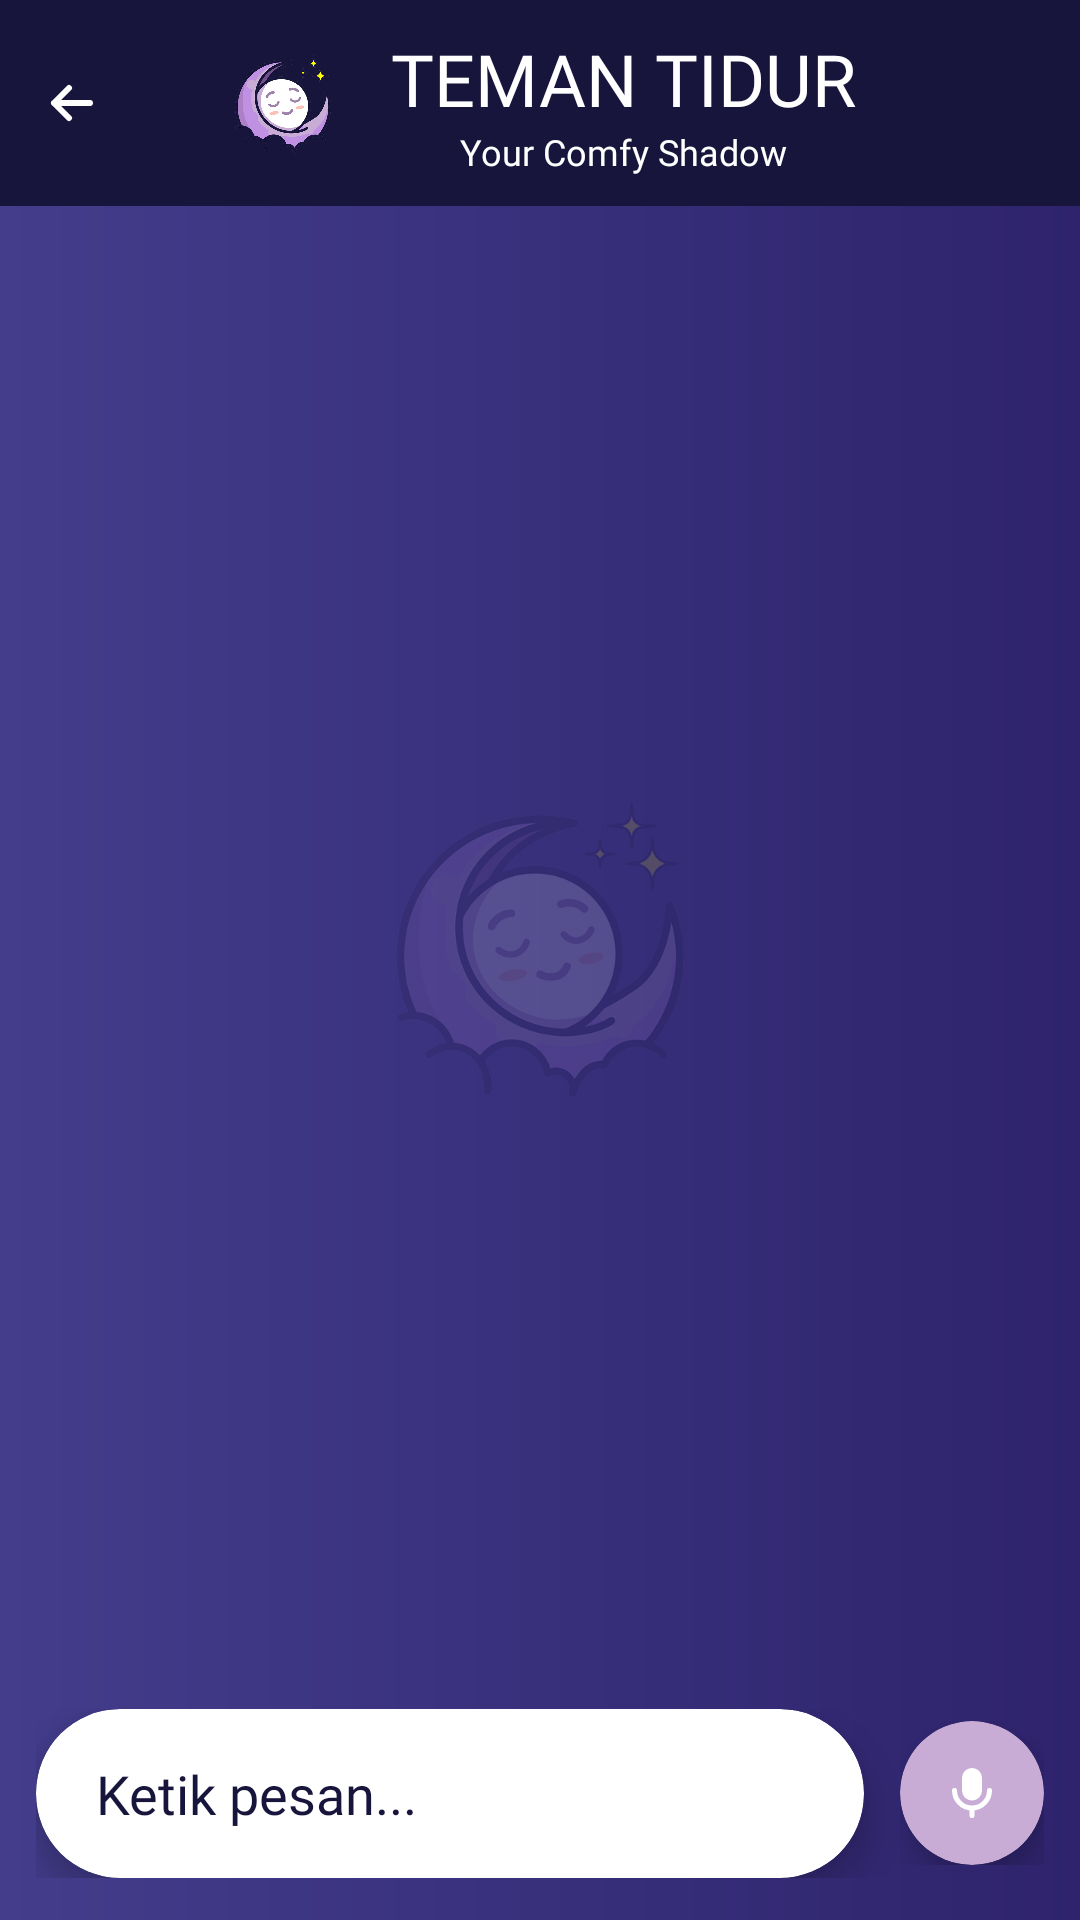

Icons on this 1080px×1920px Android screen, each with its box as (x1, y1, x2, y2):
Kembali: (51, 85, 93, 121)
Rekam Suara: (900, 1721, 1044, 1865)
